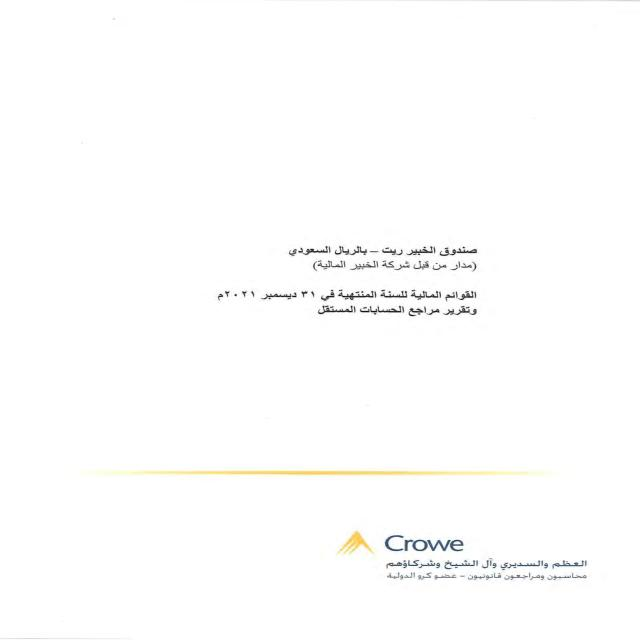other: (184, 218, 511, 359)
